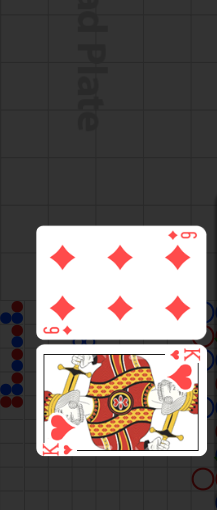6D: (42, 324, 74, 336)
KH: (41, 443, 74, 456)
